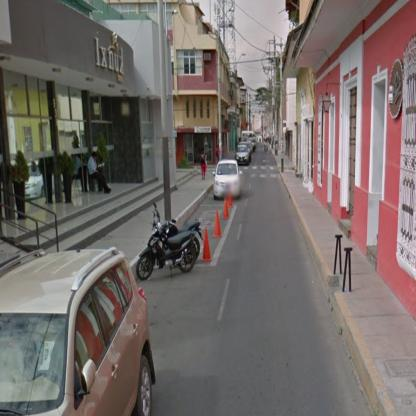Moto: (137, 202, 204, 281)
Peaton: (89, 151, 111, 195), (201, 150, 209, 180)
Pista: (4, 139, 376, 416)
Vehiculo: (2, 247, 158, 416), (212, 160, 242, 200)
